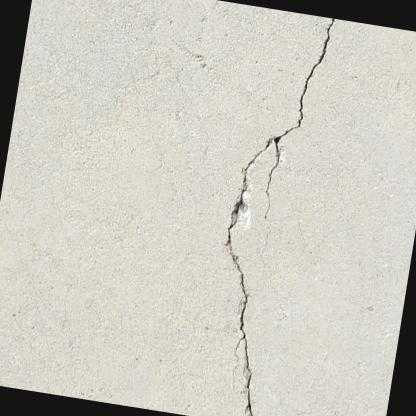crack: (224, 17, 334, 416)
